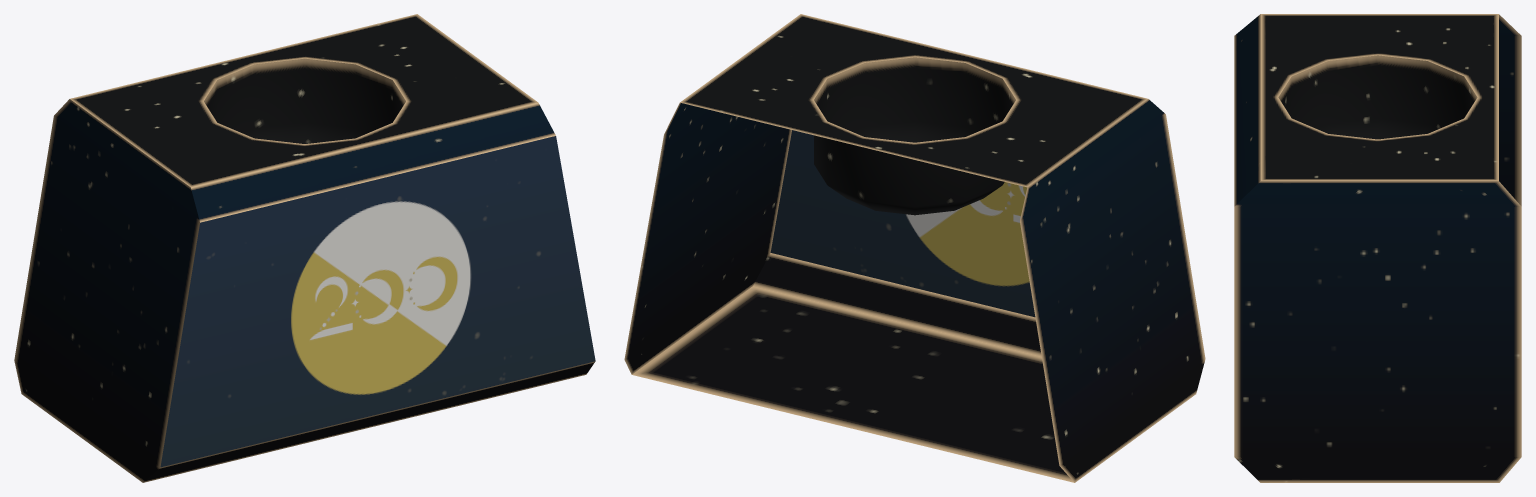
The model's file is donuts_200pt.fbx.
3 renders of one model, left to right at view 1: azimuth 30°, elevation 25°; view 2: azimuth 150°, elevation 25°; view 3: azimuth 270°, elevation 25°, orthographic.
Visible parts, largest first — view 1: donuts_200pt; view 2: donuts_200pt; view 3: donuts_200pt.
Part boxes in pixels (x1,y1,x2,y2): donuts_200pt: [14, 14, 595, 482]; donuts_200pt: [624, 14, 1205, 482]; donuts_200pt: [1234, 14, 1521, 482].
Bounding box in the file's own units: 3.19 × 1.95 × 1.82.
